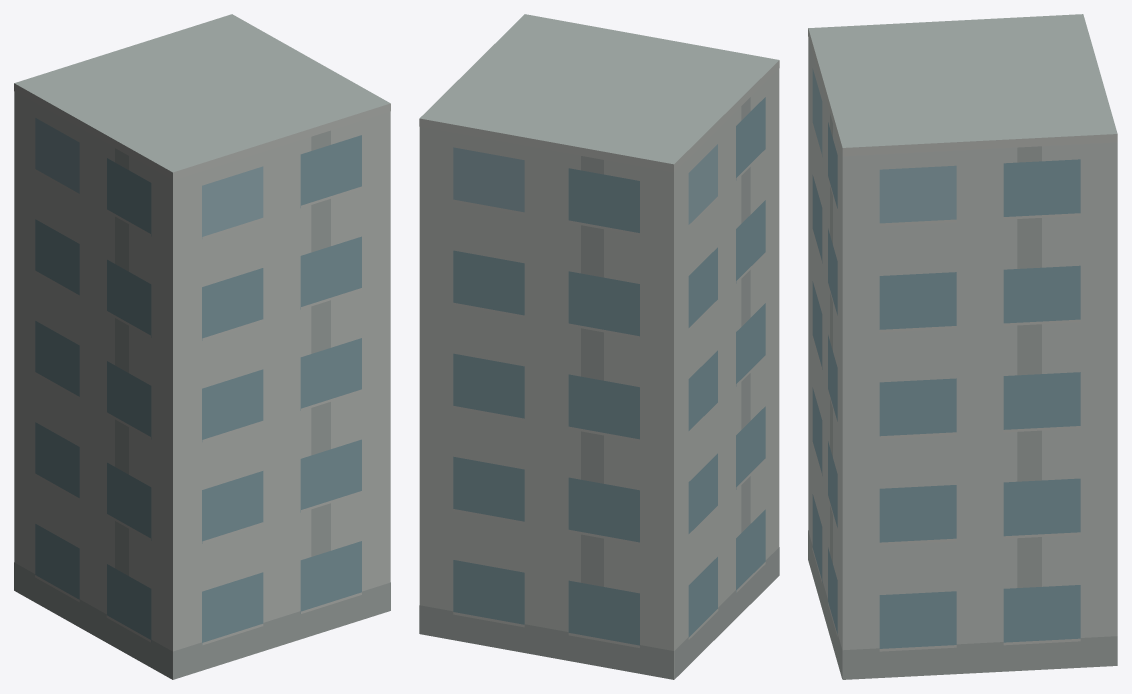
The model's file is residential-b2d33044-45fd-4aa4-a631-058730f193ed.glb.
3 renders of one model, left to right at view 1: azimuth 30°, elevation 25°; view 2: azimuth 150°, elevation 25°; view 3: azimuth 270°, elevation 25°, orthographic. The views are drawn at different scales.
Visible parts, largest first — view 1: residential-b2d33044-45fd-4aa4-a631-058730f193ed.tmp; view 2: residential-b2d33044-45fd-4aa4-a631-058730f193ed.tmp; view 3: residential-b2d33044-45fd-4aa4-a631-058730f193ed.tmp.
Boxes of the visible parts, x1,y1,x2,y2 form: residential-b2d33044-45fd-4aa4-a631-058730f193ed.tmp: (14,14,390,679); residential-b2d33044-45fd-4aa4-a631-058730f193ed.tmp: (419,14,779,679); residential-b2d33044-45fd-4aa4-a631-058730f193ed.tmp: (808,14,1117,679).
Size of the model in its own units: 8.25 by 15.25 by 8.05.
